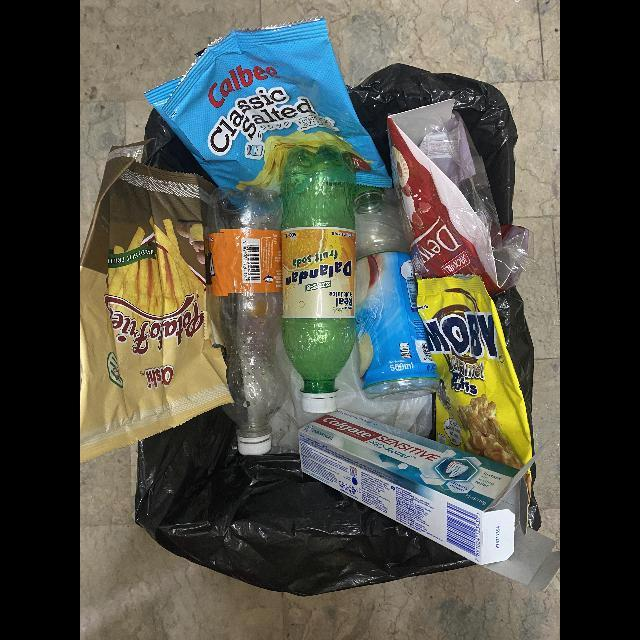cardboard: (298, 409, 560, 592)
food_wrapper: (80, 143, 234, 466), (144, 17, 394, 191), (387, 99, 530, 298), (416, 275, 533, 472)
plastic_bottle: (205, 187, 292, 457), (281, 144, 357, 415), (354, 185, 439, 403)
